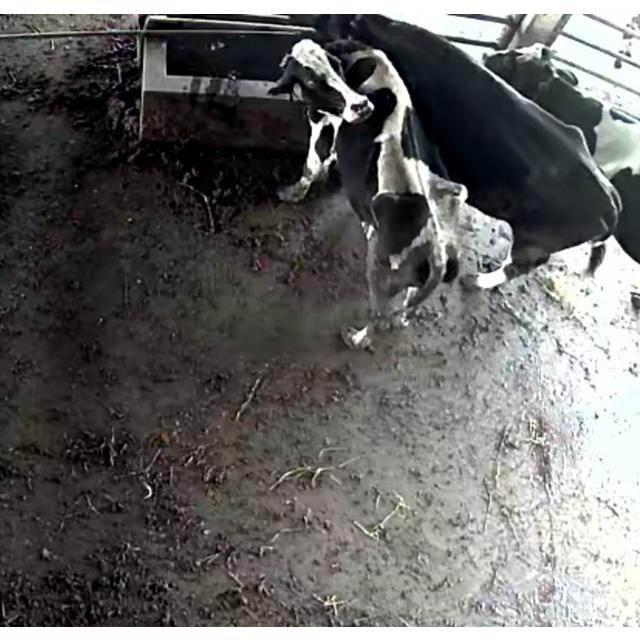drink: (308, 14, 428, 61)
